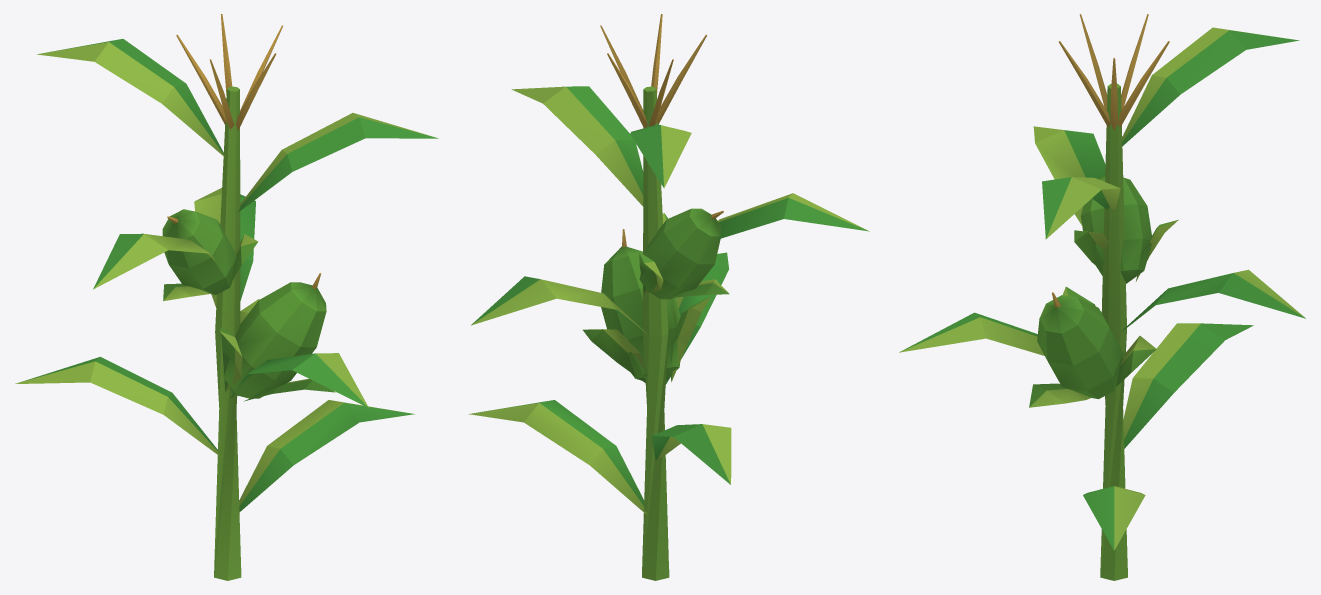
Rendered from Corn_3.glb.
The picture shows the model from 3 angles, left to right: view 1: azimuth 30°, elevation 25°; view 2: azimuth 150°, elevation 25°; view 3: azimuth 270°, elevation 25°; orthographic projection.
Parts seen in each view (by area): view 1: Corn_3; view 2: Corn_3; view 3: Corn_3.
Part boxes in pixels (left/top/right/bottom): Corn_3: left=15, top=14, right=438, bottom=580; Corn_3: left=468, top=14, right=869, bottom=580; Corn_3: left=899, top=14, right=1305, bottom=580.
Bounding box in the file's own units: 0.9561 × 1.35 × 0.9203.
